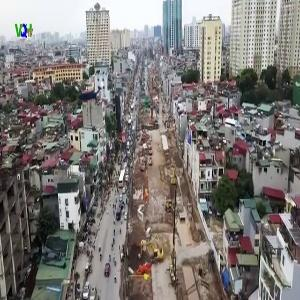drone: (66, 73, 111, 118)
